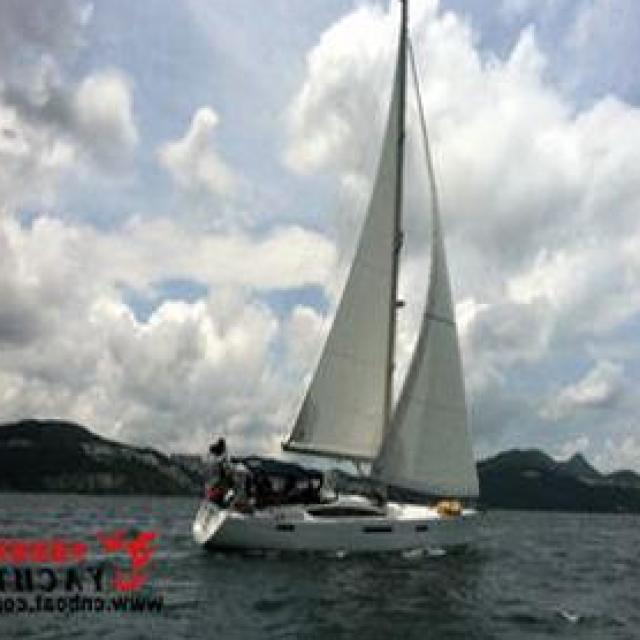sailboat: (191, 0, 507, 553)
